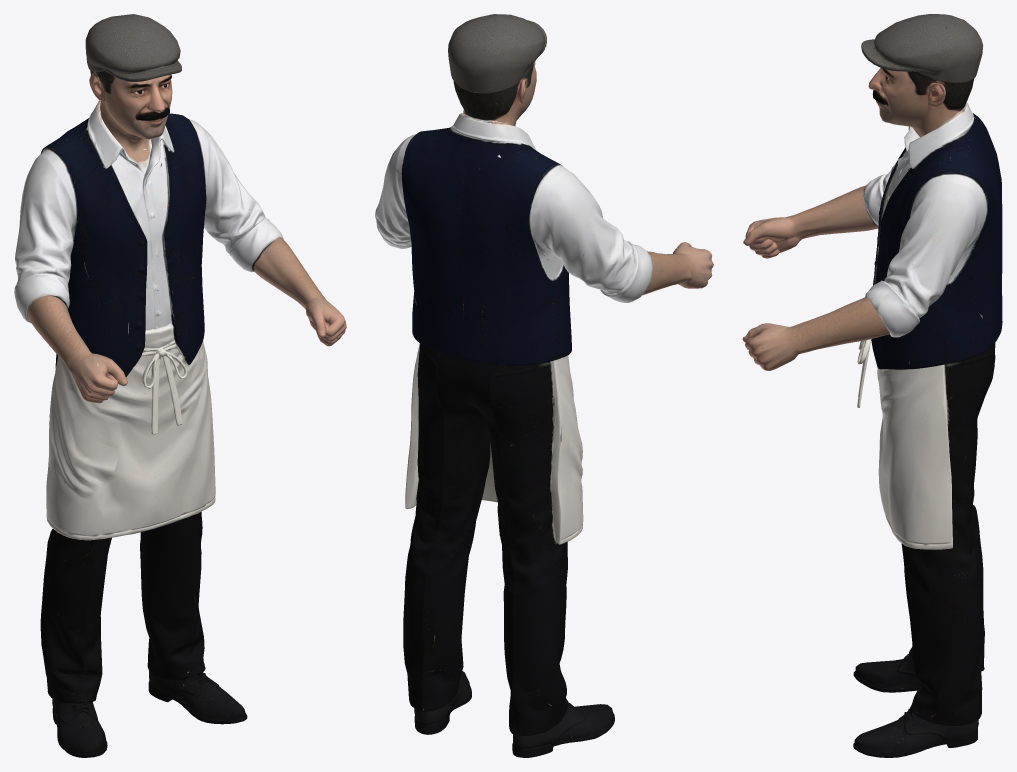
The model's file is simit-seller.glb.
3 renders of one model, left to right at view 1: azimuth 30°, elevation 25°; view 2: azimuth 150°, elevation 25°; view 3: azimuth 270°, elevation 25°, orthographic. The views are drawn at different scales.
Bounding box in the file's own units: 0.7497 × 1.9 × 0.6433.
1 material, 1 textured.
